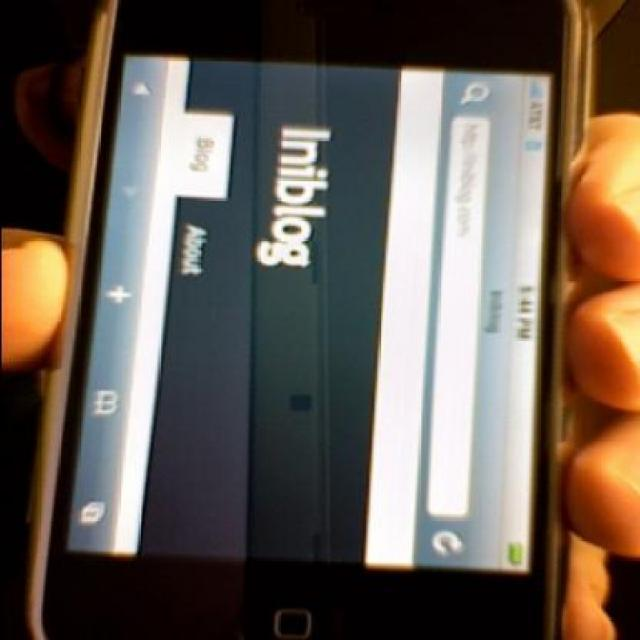phone: (24, 0, 612, 628)
